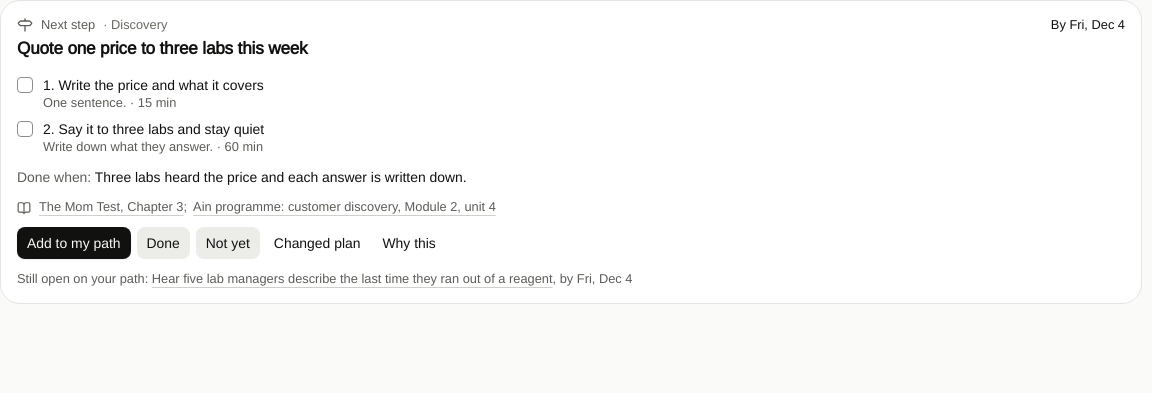
Test: TurnStepCard › a step offered as the answer to what they asked › keeps its other actions: a tick stays ticked and Done stays done, on the path or not
Step 1. Click the checkbox named "Write the price" in the row of "Write the price and what it covers" → {"x": 25, "y": 85}, box x1=13 y1=73 x2=37 y2=97
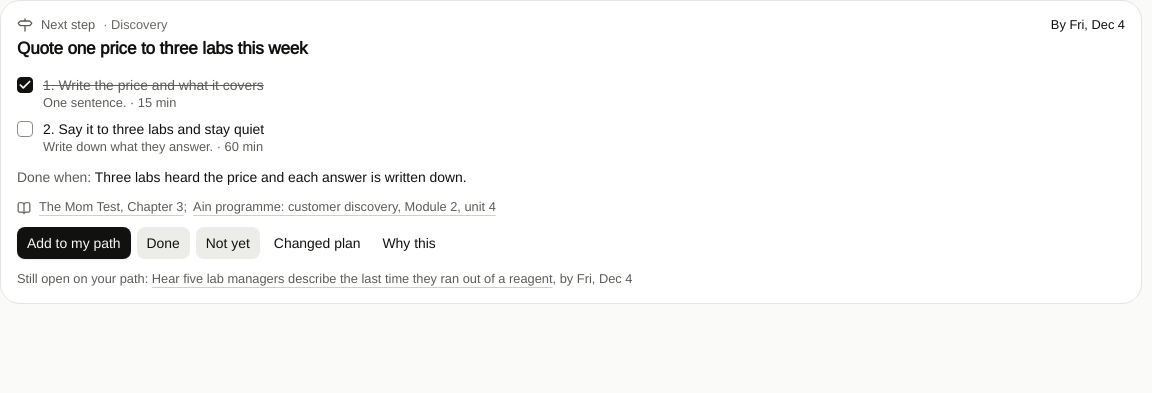
Check: the checkbox named "Write the price" in the row of "Write the price and what it covers" is checked, box x1=13 y1=73 x2=37 y2=97
Step 2. Click the button "Done" → {"x": 163, "y": 243}, box x1=136 y1=227 x2=190 y2=259
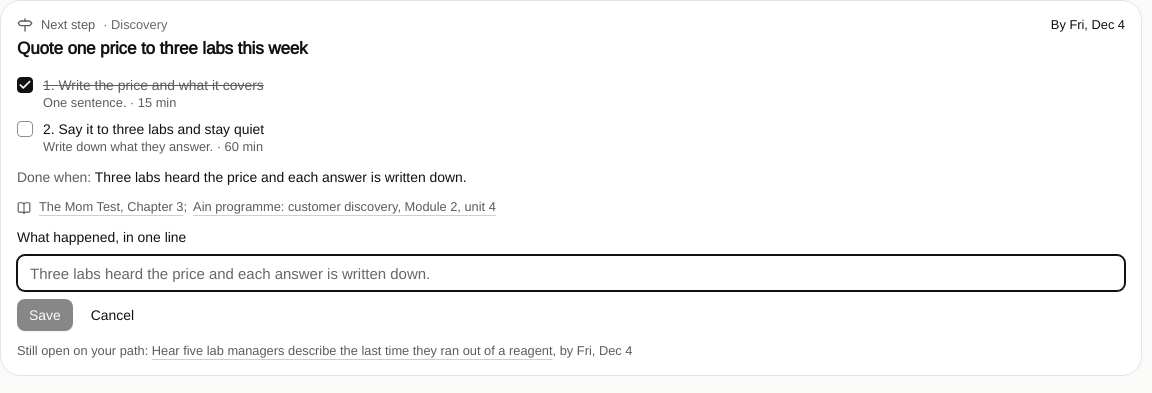
Step 3. Type "Three labs heard 45 dollars." into the field → {"x": 571, "y": 273}, box x1=17 y1=255 x2=1125 y2=291
Then press Enter
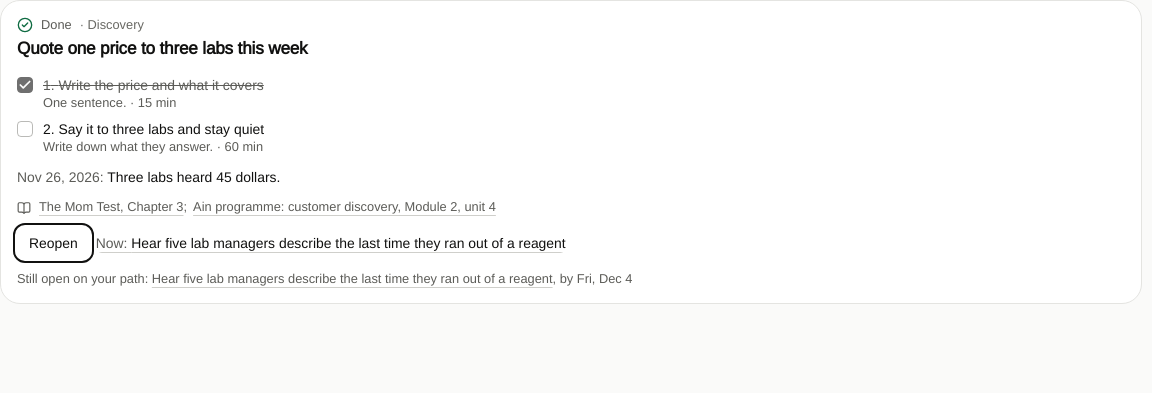
Check: the text "Three labs heard 45 dollars." is shown, box x1=107 y1=169 x2=280 y2=185
